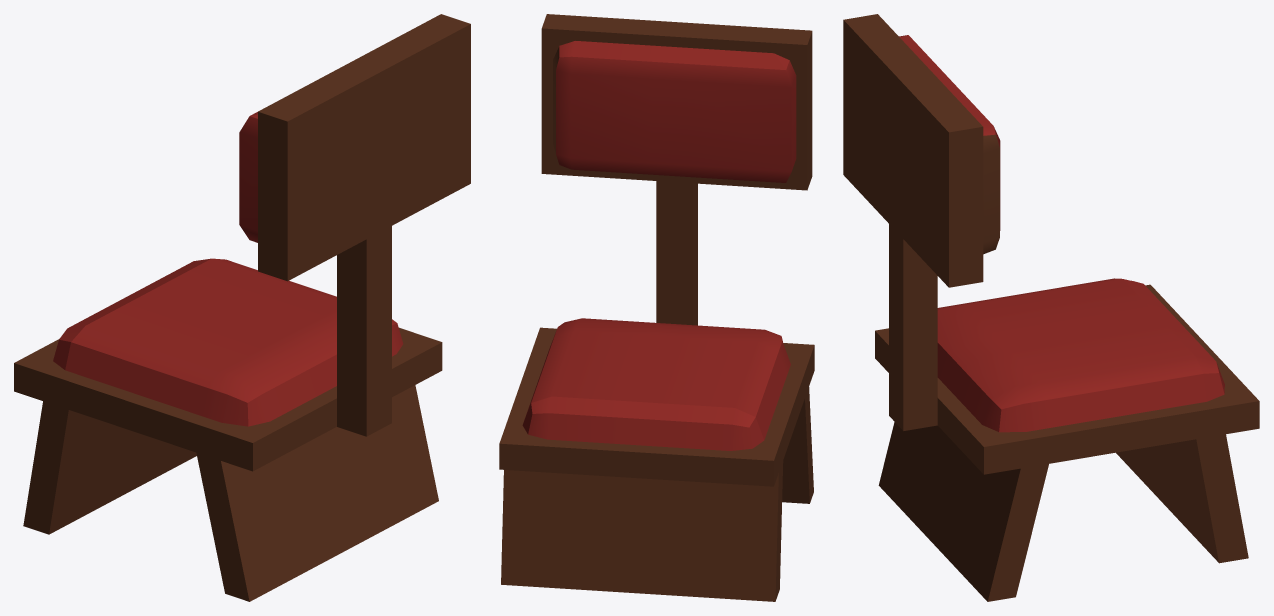
File: CHAIR.fbx
3 renders of one model, left to right at view 1: azimuth 30°, elevation 25°; view 2: azimuth 150°, elevation 25°; view 3: azimuth 270°, elevation 25°, orthographic. The views are drawn at different scales.
Visible parts, largest first — view 1: CHAIR; view 2: CHAIR; view 3: CHAIR.
Part boxes in pixels (x1,y1,x2,y2): CHAIR: [14, 14, 470, 601]; CHAIR: [499, 14, 814, 601]; CHAIR: [843, 14, 1259, 601].
Bounding box in the file's own units: 42.68 × 56.44 × 44.79.
